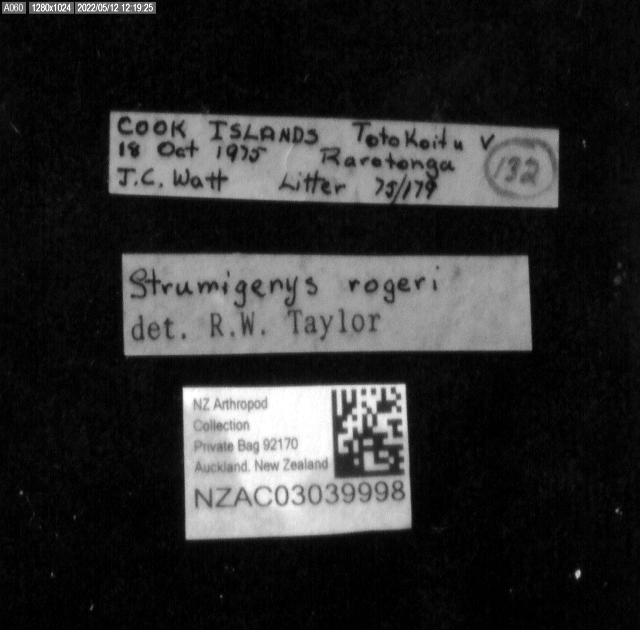hand_label: (109, 111, 559, 208)
mixed_label: (122, 253, 531, 356)
typed_label: (182, 384, 411, 538)
